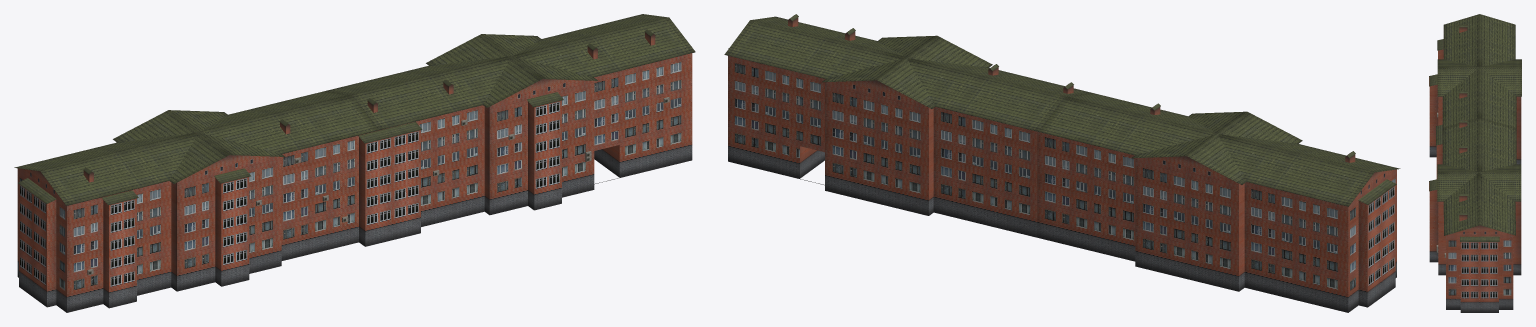
The model's file is r254_vhodnoy_dom_5et.FBX.
The picture shows the model from 3 angles, left to right: view 1: azimuth 30°, elevation 25°; view 2: azimuth 150°, elevation 25°; view 3: azimuth 270°, elevation 25°; orthographic projection. The views are drawn at different scales.
Parts seen in each view (by area): view 1: r254_vhodnoy_dom_5et; view 2: r254_vhodnoy_dom_5et; view 3: r254_vhodnoy_dom_5et.
Part boxes in pixels (bbox=[...]): r254_vhodnoy_dom_5et: bbox=[14, 14, 695, 312]; r254_vhodnoy_dom_5et: bbox=[724, 14, 1400, 312]; r254_vhodnoy_dom_5et: bbox=[1429, 14, 1521, 312].
Bounding box in the file's own units: 8823 × 1599 × 1658.
